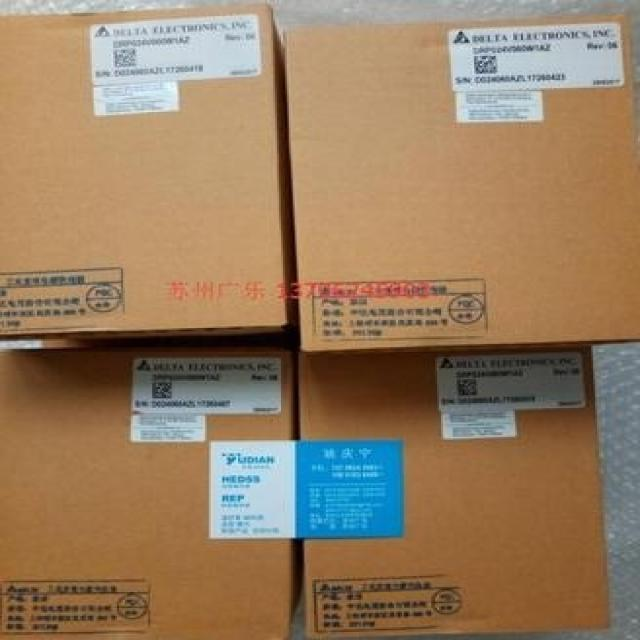box: (284, 11, 638, 350), (0, 5, 293, 342), (299, 343, 611, 638), (0, 348, 299, 638)
